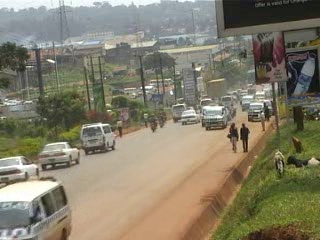Car: (0, 152, 41, 191), (39, 139, 81, 169), (179, 108, 200, 126)
Motorcycle: (147, 112, 158, 133), (228, 101, 238, 121), (156, 107, 165, 129)
